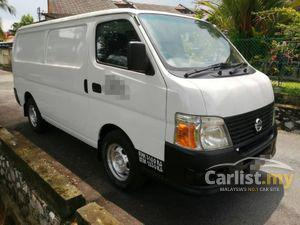Van: (13, 11, 286, 189)
